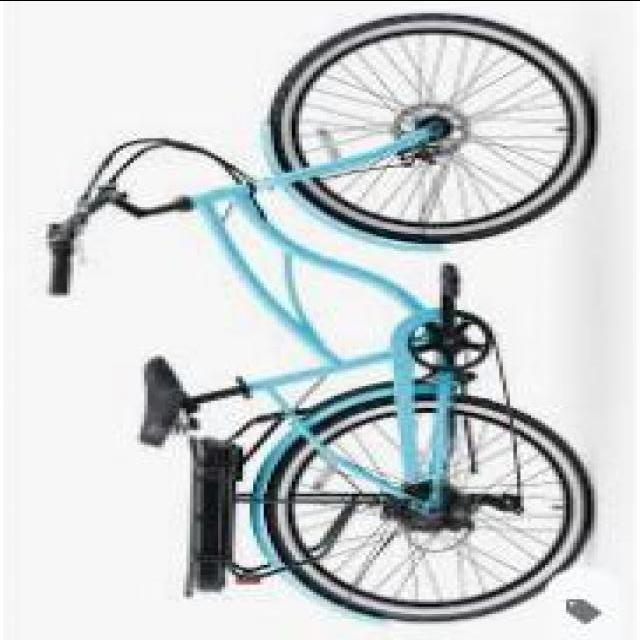bicycle: (43, 40, 599, 612)
